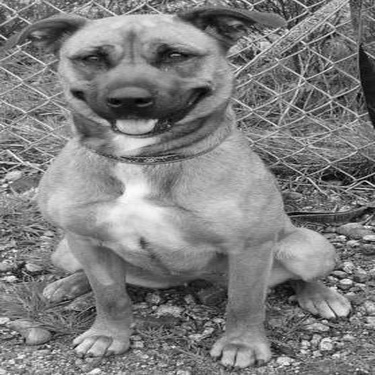dog: (5, 5, 353, 370)
